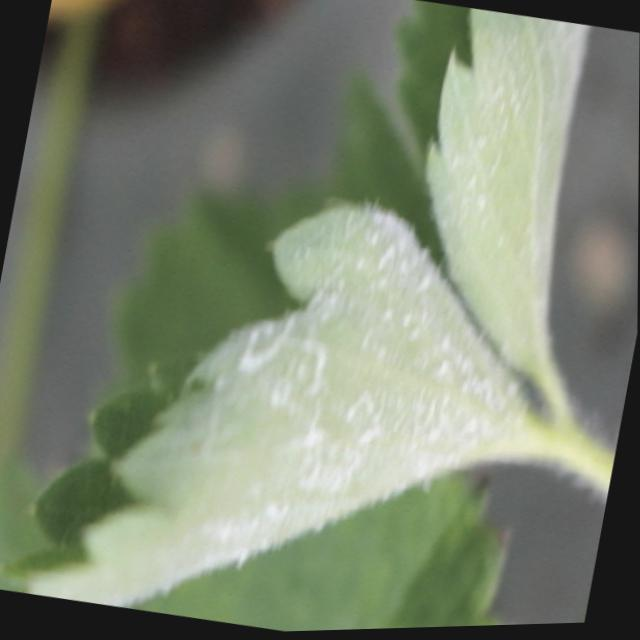Powdery Mildew Leaf: (0, 204, 544, 609), (388, 1, 594, 407)
